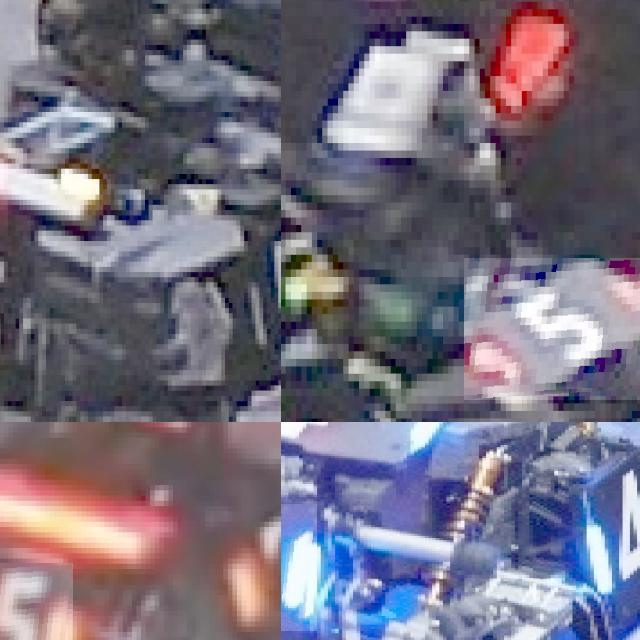R5: (464, 258, 640, 399), (0, 563, 72, 640)
